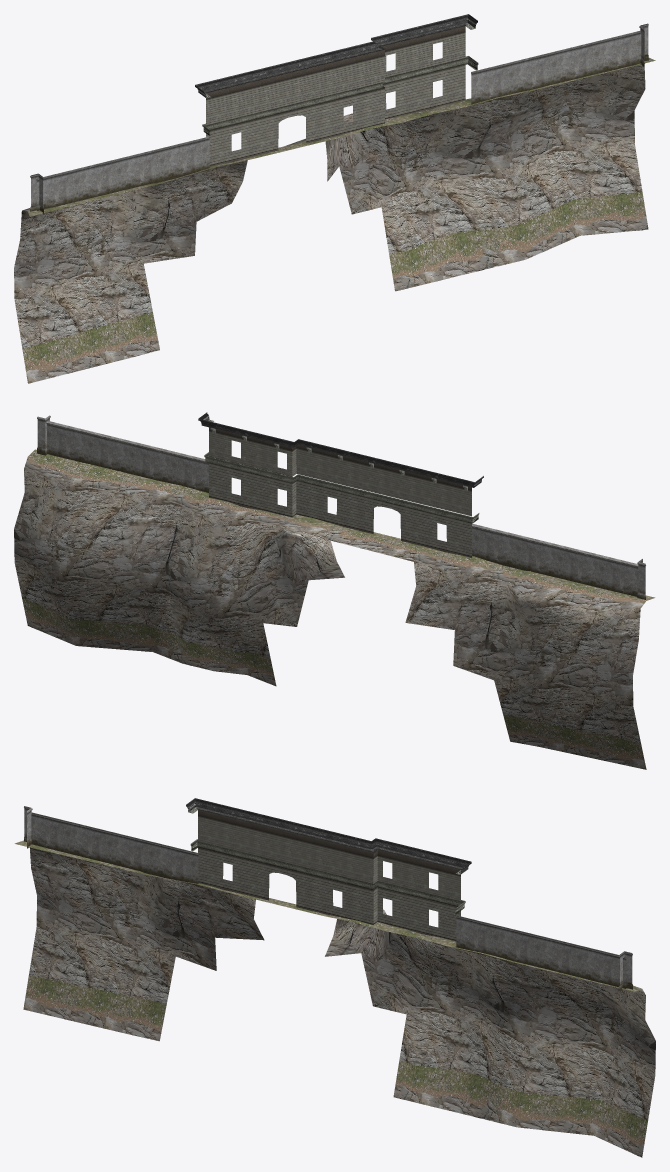
File: ManorHiddenWall.fbx
3 renders of one model, top to bottom at view 1: azimuth 30°, elevation 25°; view 2: azimuth 150°, elevation 25°; view 3: azimuth 330°, elevation 25°, orthographic.
Parts seen in each view (by area): view 1: pPlane25, pPlane24, polySurface1830, polySurface1832, polySurface1843; view 2: pPlane25, pPlane24, polySurface1830, polySurface1832, polySurface1843; view 3: pPlane25, pPlane24, polySurface1830, polySurface1832, polySurface1843.
Part boxes in pixels (x1=…): pPlane25: x1=14, y1=57, x2=655, y2=383; pPlane24: x1=206, y1=26, x2=465, y2=166; polySurface1830: x1=36, y1=136, x2=209, y2=210; polySurface1832: x1=471, y1=30, x2=641, y2=105; polySurface1843: x1=195, y1=14, x2=478, y2=135; pPlane25: x1=14, y1=449, x2=655, y2=769; pPlane24: x1=209, y1=427, x2=471, y2=557; polySurface1830: x1=472, y1=523, x2=638, y2=596; polySurface1832: x1=46, y1=420, x2=208, y2=492; polySurface1843: x1=198, y1=412, x2=483, y2=523; pPlane25: x1=14, y1=840, x2=655, y2=1157; pPlane24: x1=198, y1=809, x2=460, y2=941; polySurface1830: x1=31, y1=812, x2=198, y2=885; polySurface1832: x1=456, y1=915, x2=626, y2=988; polySurface1843: x1=186, y1=798, x2=471, y2=914.
Size of the model in its own units: 6650 by 2590 by 669.
